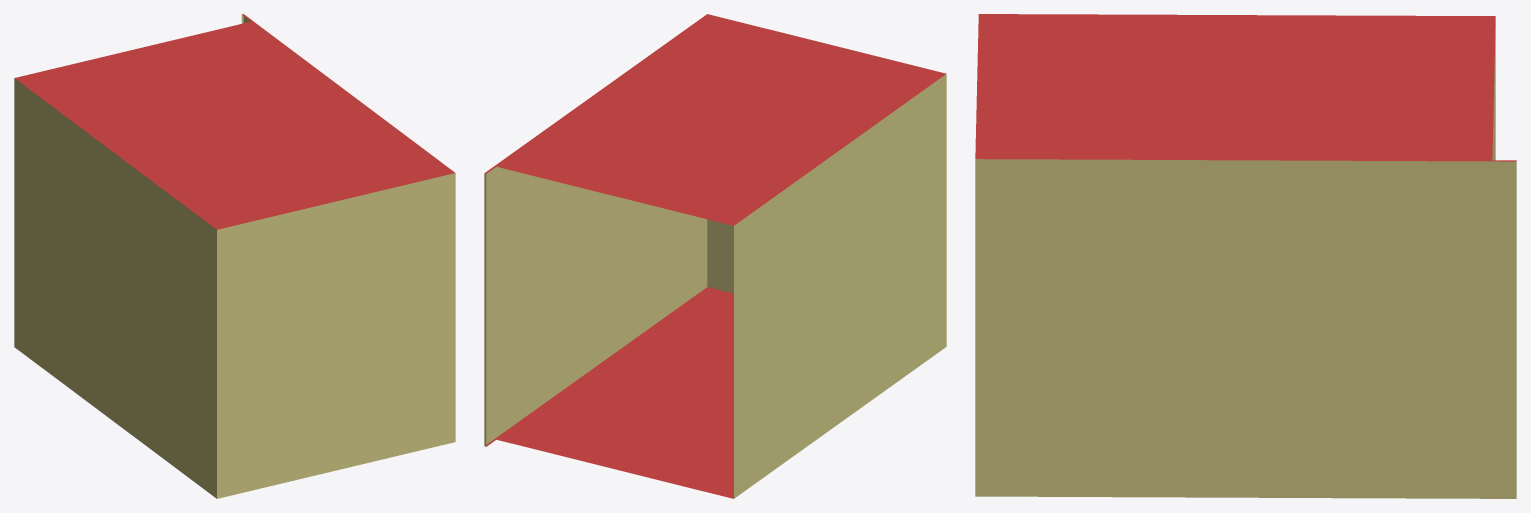
3 views of the same model, side by side, from view 1: azimuth 30°, elevation 25°; view 2: azimuth 150°, elevation 25°; view 3: azimuth 270°, elevation 25° (orthographic). The views are drawn at different scales.
Bounding box in the file's own units: 6.83 × 10.59 × 7.28.
